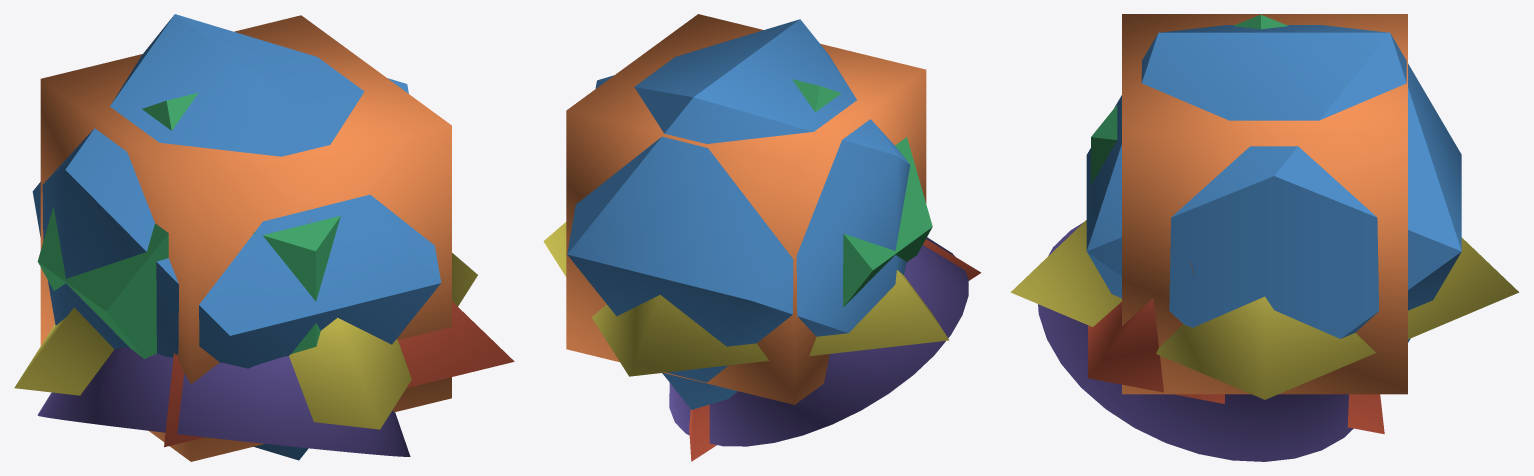
Rendered from uss.glb.
3 views of the same model, side by side, from view 1: azimuth 30°, elevation 25°; view 2: azimuth 150°, elevation 25°; view 3: azimuth 270°, elevation 25° (orthographic). The views are drawn at different scales.
Visible parts, largest first — view 1: AElias, Cube, Cone, ALucas, instance, Cone.001; view 2: AElias, Cube, Cone, ALucas, instance, Cone.001; view 3: AElias, Cube, ALucas, Cone, Cone.001, instance.
Part boxes in pixels (box(x1,y1,x2,y2)): AElias: box(32, 14, 441, 460); Cube: box(40, 15, 451, 461); Cone: box(37, 347, 410, 456); ALucas: box(14, 253, 477, 429); instance: box(37, 92, 340, 358); Cone.001: box(164, 301, 514, 447); AElias: box(567, 19, 910, 409); Cube: box(566, 14, 926, 404); Cone: box(669, 237, 968, 446); ALucas: box(543, 222, 948, 376); instance: box(792, 79, 932, 307); Cone.001: box(689, 239, 981, 461); AElias: box(1086, 25, 1461, 342); Cube: box(1122, 14, 1407, 394); ALucas: box(1010, 220, 1519, 399); Cone: box(1038, 222, 1353, 461); Cone.001: box(1088, 298, 1384, 434); instance: box(1091, 14, 1288, 184).
Bounding box in the file's own units: 2.29 × 1.98 × 2.29.
